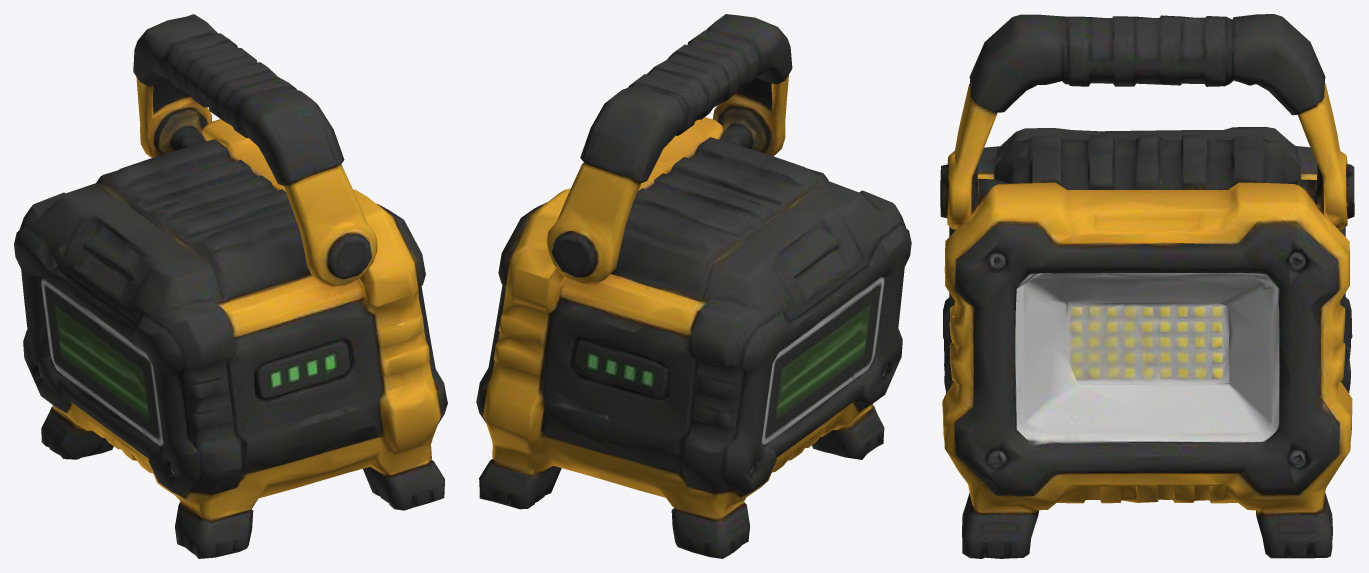
The model's file is gen-work-lamp.glb.
3 views of the same model, side by side, from view 1: azimuth 30°, elevation 25°; view 2: azimuth 150°, elevation 25°; view 3: azimuth 270°, elevation 25° (orthographic). The views are drawn at different scales.
Parts seen in each view (by area): view 1: tripo_node_098034f8-c017-4ca6-8f17-0d34327b126b; view 2: tripo_node_098034f8-c017-4ca6-8f17-0d34327b126b; view 3: tripo_node_098034f8-c017-4ca6-8f17-0d34327b126b.
Boxes of the visible parts, box(x1,y1,x2,y2) form: tripo_node_098034f8-c017-4ca6-8f17-0d34327b126b: box(14, 14, 447, 558); tripo_node_098034f8-c017-4ca6-8f17-0d34327b126b: box(476, 14, 911, 558); tripo_node_098034f8-c017-4ca6-8f17-0d34327b126b: box(940, 14, 1354, 558).
Bounding box in the file's own units: 0.727 × 1 × 0.8054.
Materials: 1 (1 with a texture image).
